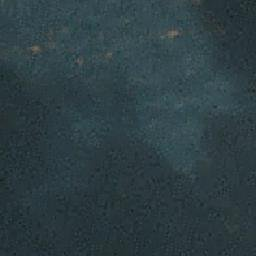cloud: (164, 28, 181, 38), (75, 56, 84, 65)
debris: (28, 41, 41, 53)
